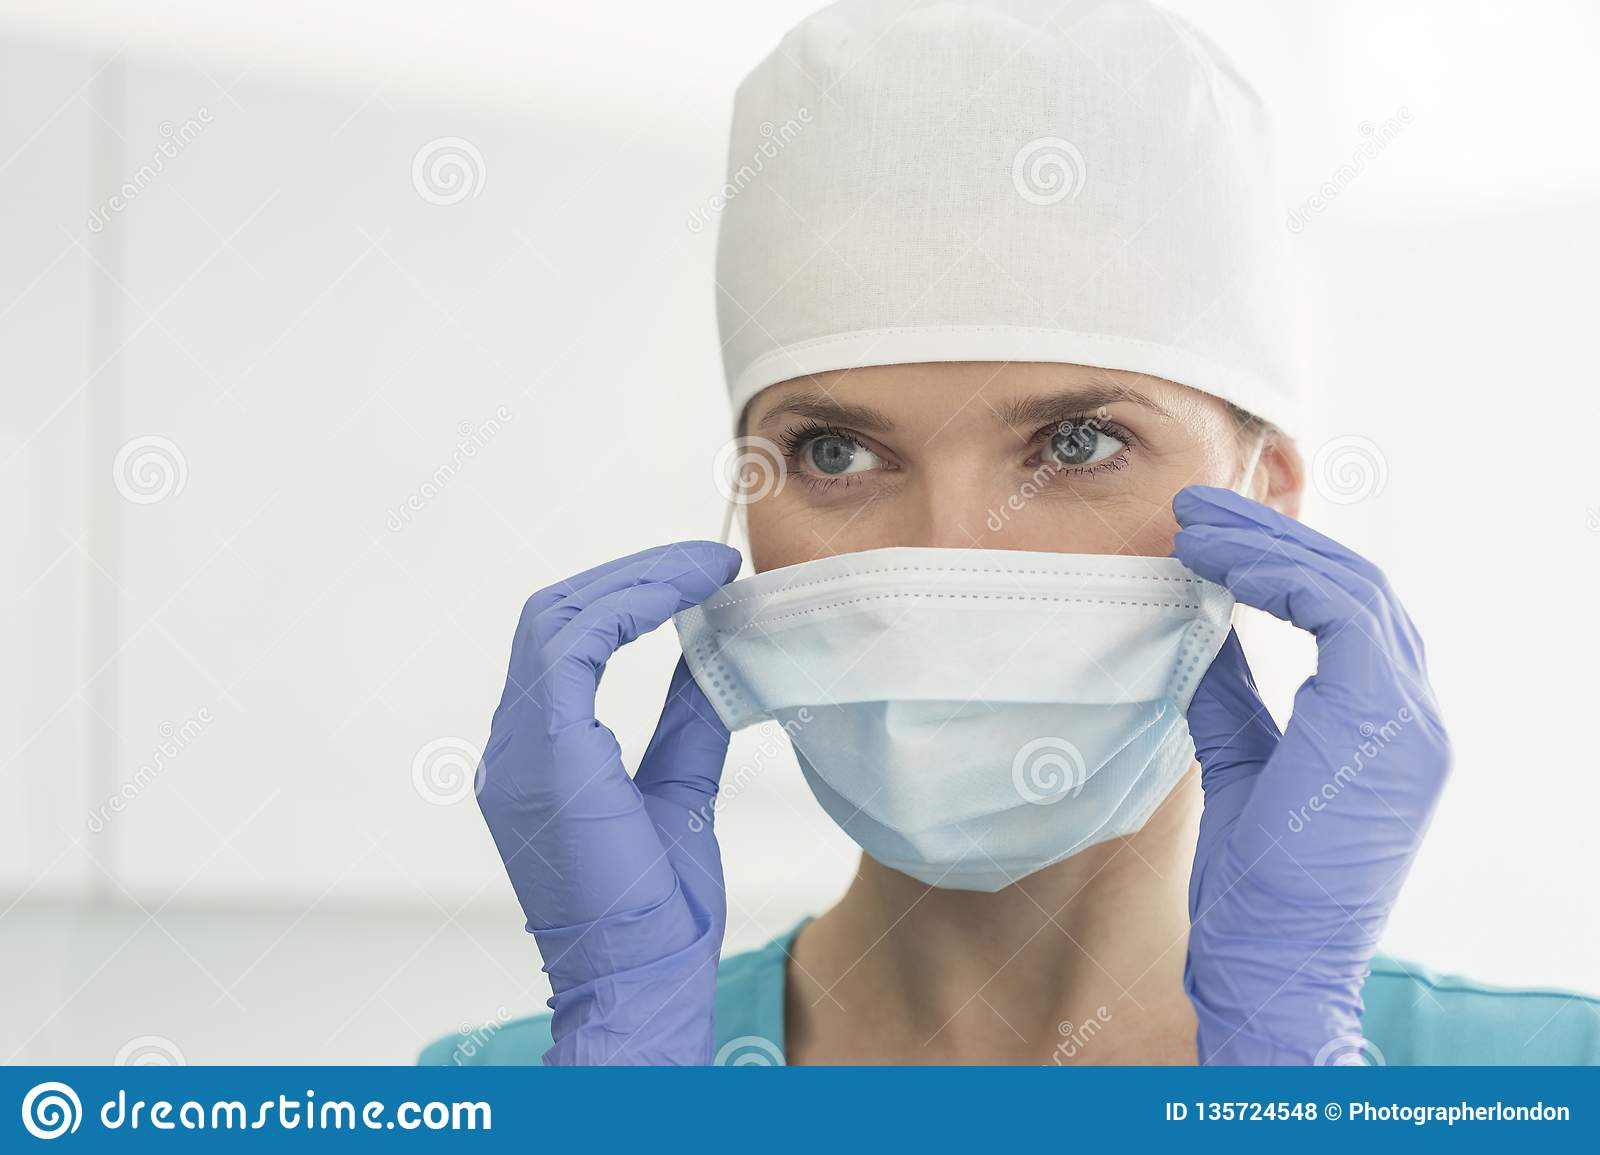mask: (706, 551, 1253, 885)
